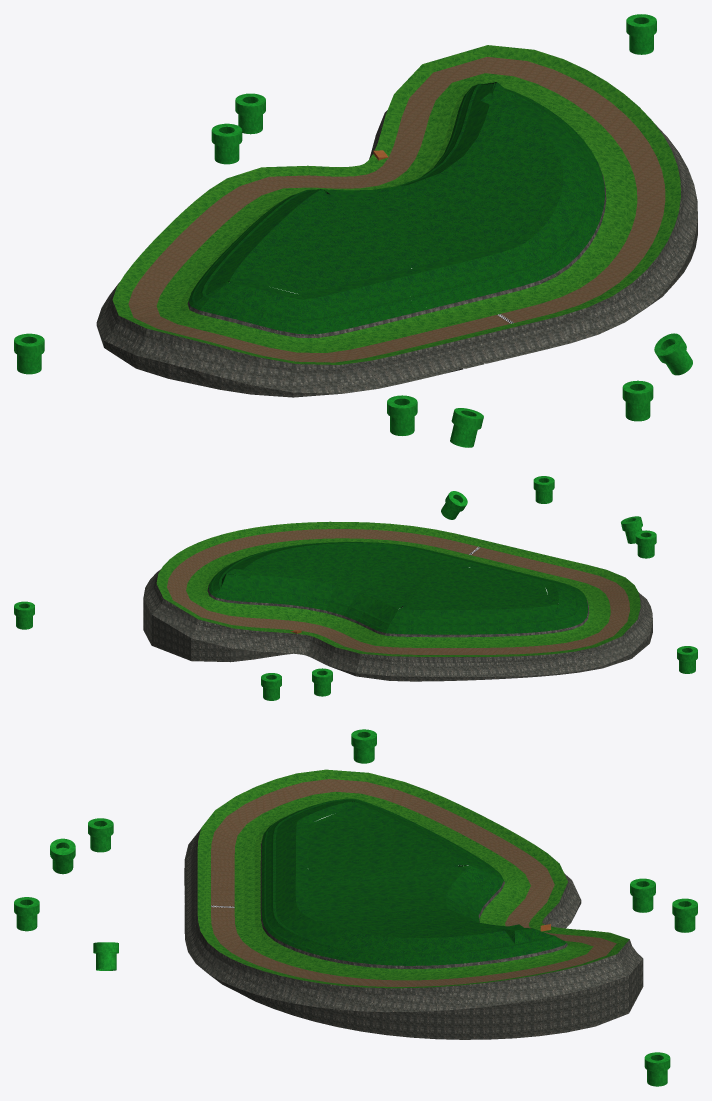
The picture shows the model from 3 angles, top to bottom: view 1: azimuth 30°, elevation 25°; view 2: azimuth 150°, elevation 25°; view 3: azimuth 270°, elevation 25°; orthographic projection. The views are drawn at different scales.
Parts seen in each view (by area): view 1: polygon_Main-4, polygon_Main-3, polygon_Main-7, polygon_Main-8, polygon_Main-10, polygon_c_Komponente_1-5.000, polygon_c_Komponente_1-5.008, polygon_c_Komponente_1-5.010, polygon_c_Komponente_1-5.012, polygon_c_Komponente_1-5.014, polygon_c_Komponente_1-5.004, polygon_c_Komponente_1-5.002 (+1 smaller); view 2: polygon_Main-4, polygon_Main-3, polygon_Main-7, polygon_Main-8, polygon_Main-10, polygon_c_Komponente_1-5.004, polygon_c_Komponente_1-5.010, polygon_c_Komponente_1-5.008, polygon_c_Komponente_1-5.014, polygon_c_Komponente_1-5.000, polygon_c_Komponente_1-5.002, polygon_c_Komponente_1-5.012 (+1 smaller); view 3: polygon_Main-4, polygon_Main-7, polygon_Main-3, polygon_Main-8, polygon_Main-10, polygon_c_Komponente_1-5.006, polygon_c_Komponente_1-5.000, polygon_c_Komponente_1-5.012, polygon_c_Komponente_1-5.002, polygon_c_Komponente_1-5.010, polygon_c_Komponente_1-5.014, polygon_c_Komponente_1-5.004 (+1 smaller).
Boxes of the visible parts, x1,y1,x2,y2 form: polygon_Main-4: [188, 82, 604, 334]; polygon_Main-3: [112, 45, 680, 364]; polygon_Main-7: [96, 110, 697, 397]; polygon_Main-8: [128, 57, 665, 362]; polygon_Main-10: [187, 166, 606, 337]; polygon_c_Komponente_1-5.000: [211, 123, 242, 164]; polygon_c_Komponente_1-5.008: [654, 333, 692, 375]; polygon_c_Komponente_1-5.010: [622, 380, 653, 421]; polygon_c_Komponente_1-5.012: [14, 333, 44, 374]; polygon_c_Komponente_1-5.014: [626, 14, 656, 54]; polygon_c_Komponente_1-5.004: [387, 395, 417, 435]; polygon_c_Komponente_1-5.002: [235, 93, 265, 134]; polygon_Main-4: [208, 542, 588, 634]; polygon_Main-3: [156, 521, 640, 656]; polygon_Main-7: [143, 569, 652, 681]; polygon_Main-8: [167, 529, 629, 654]; polygon_Main-10: [207, 584, 589, 637]; polygon_c_Komponente_1-5.004: [635, 530, 656, 558]; polygon_c_Komponente_1-5.010: [533, 476, 554, 503]; polygon_c_Komponente_1-5.008: [441, 491, 467, 519]; polygon_c_Komponente_1-5.014: [14, 601, 34, 629]; polygon_c_Komponente_1-5.000: [312, 668, 332, 696]; polygon_c_Komponente_1-5.002: [261, 673, 281, 700]; polygon_c_Komponente_1-5.012: [677, 646, 697, 673]; polygon_Main-4: [261, 798, 566, 965]; polygon_Main-7: [184, 829, 643, 1039]; polygon_Main-3: [197, 769, 629, 988]; polygon_Main-8: [211, 779, 616, 986]; polygon_Main-10: [260, 835, 567, 968]; polygon_c_Komponente_1-5.006: [50, 838, 75, 874]; polygon_c_Komponente_1-5.000: [630, 878, 655, 912]; polygon_c_Komponente_1-5.012: [351, 729, 376, 763]; polygon_c_Komponente_1-5.002: [672, 898, 697, 932]; polygon_c_Komponente_1-5.010: [14, 897, 39, 931]; polygon_c_Komponente_1-5.014: [644, 1052, 670, 1086]; polygon_c_Komponente_1-5.004: [88, 818, 113, 852].
Size of what is drawn, in the model's own units: 114611 by 11875 by 99245.
10 materials, 10 textured.
